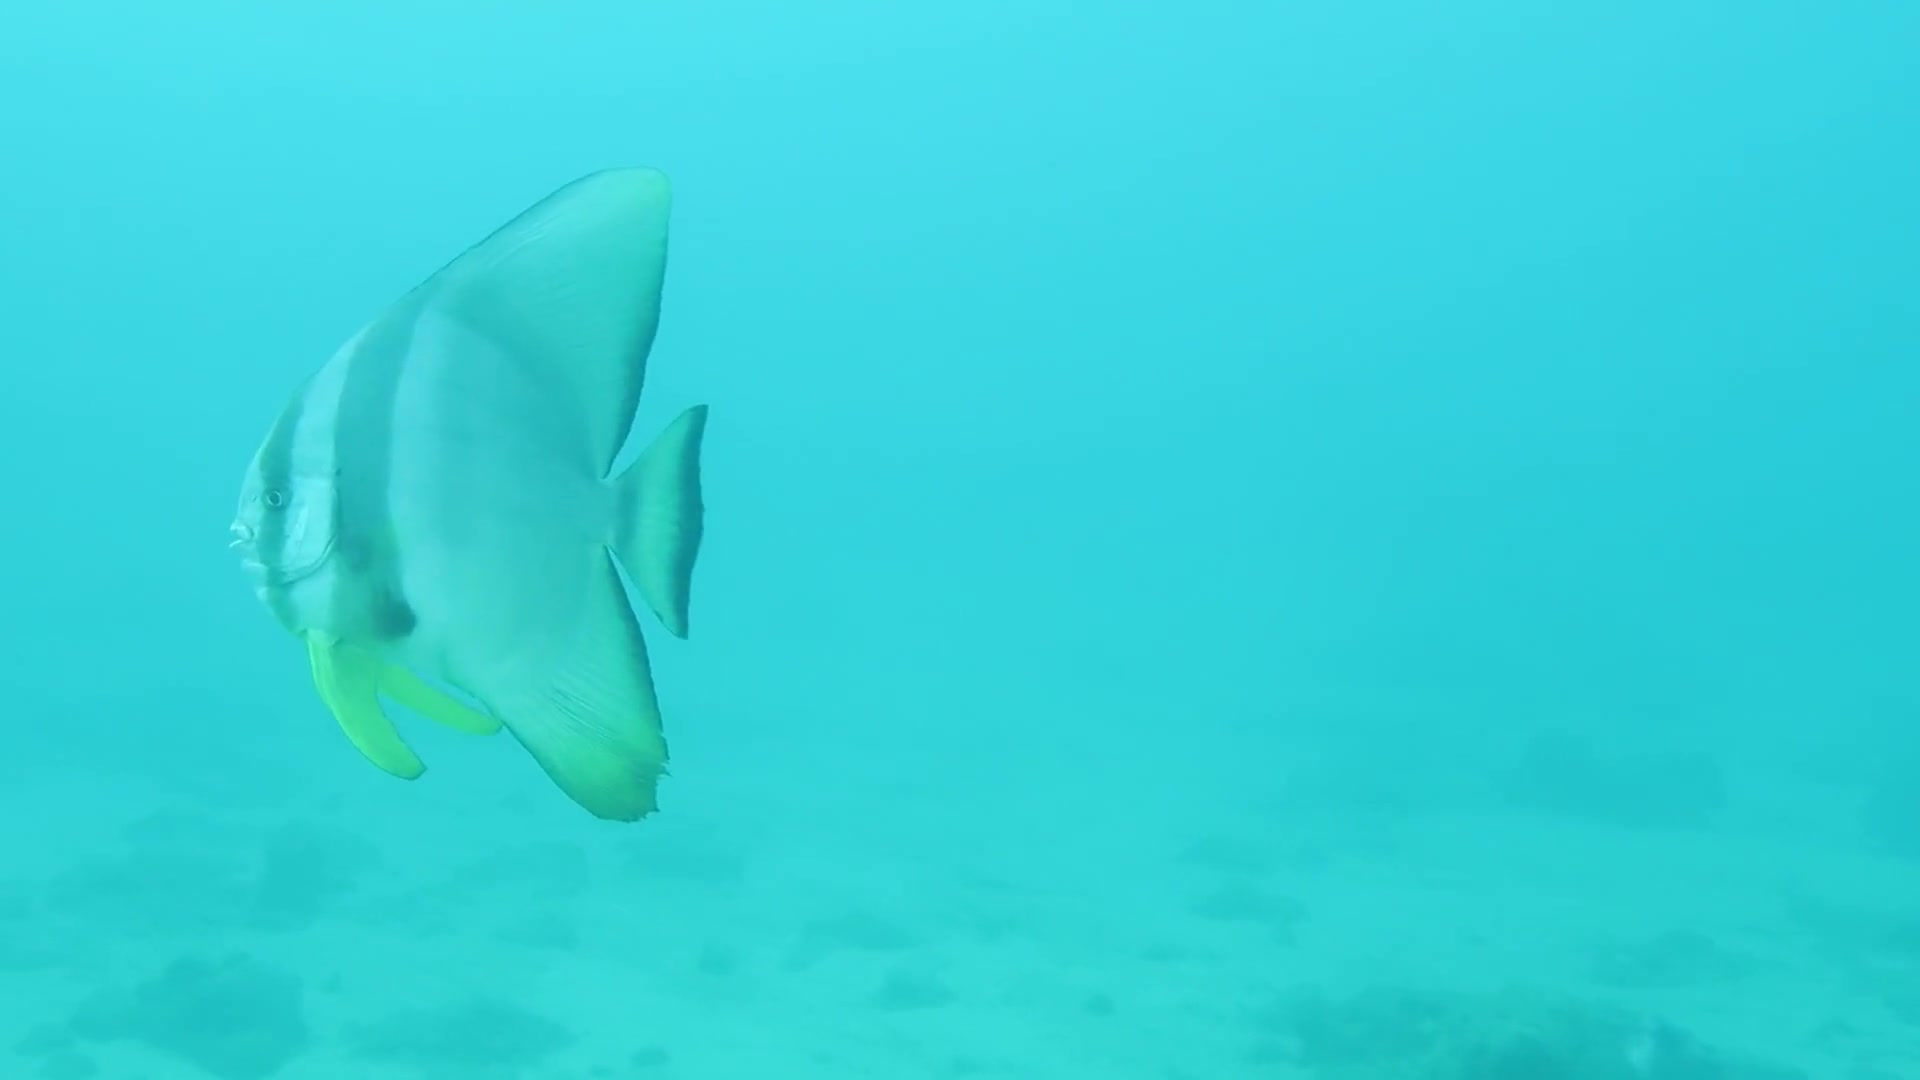Platax teira: (204, 109, 756, 884)
